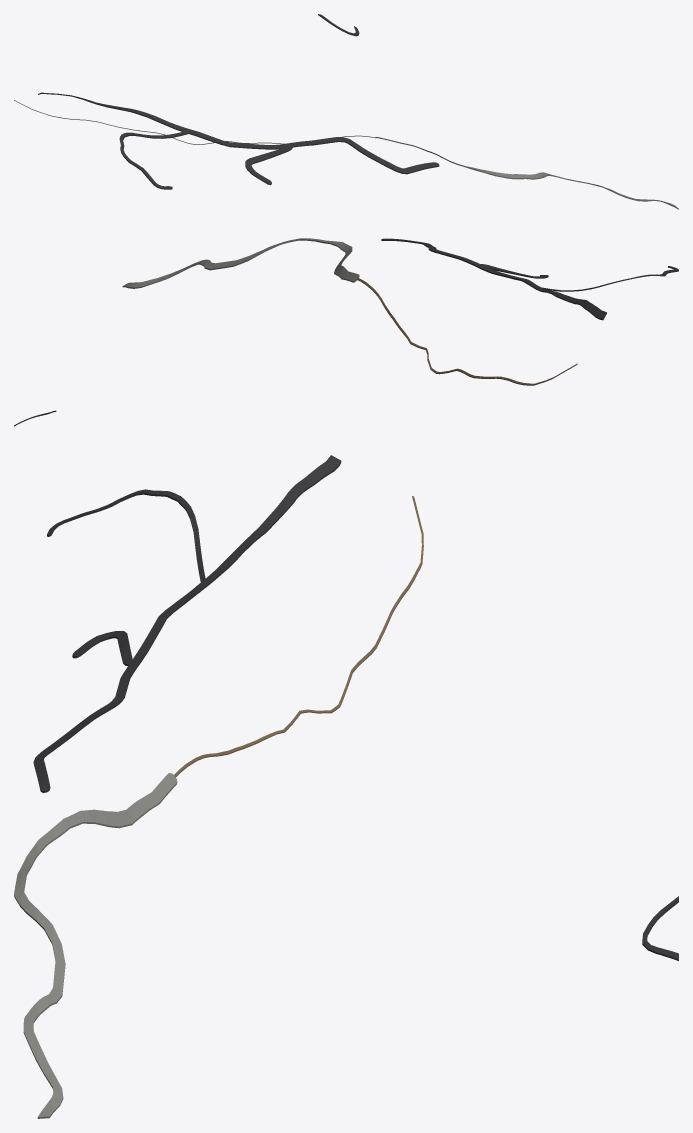
3 views of the same model, one above another, from view 1: azimuth 30°, elevation 25°; view 2: azimuth 150°, elevation 25°; view 3: azimuth 270°, elevation 25° (orthographic). The views are drawn at different scales.
Size of the model in its own units: 587 by 184 by 416.
